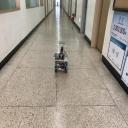cart: (54, 56, 68, 74)
